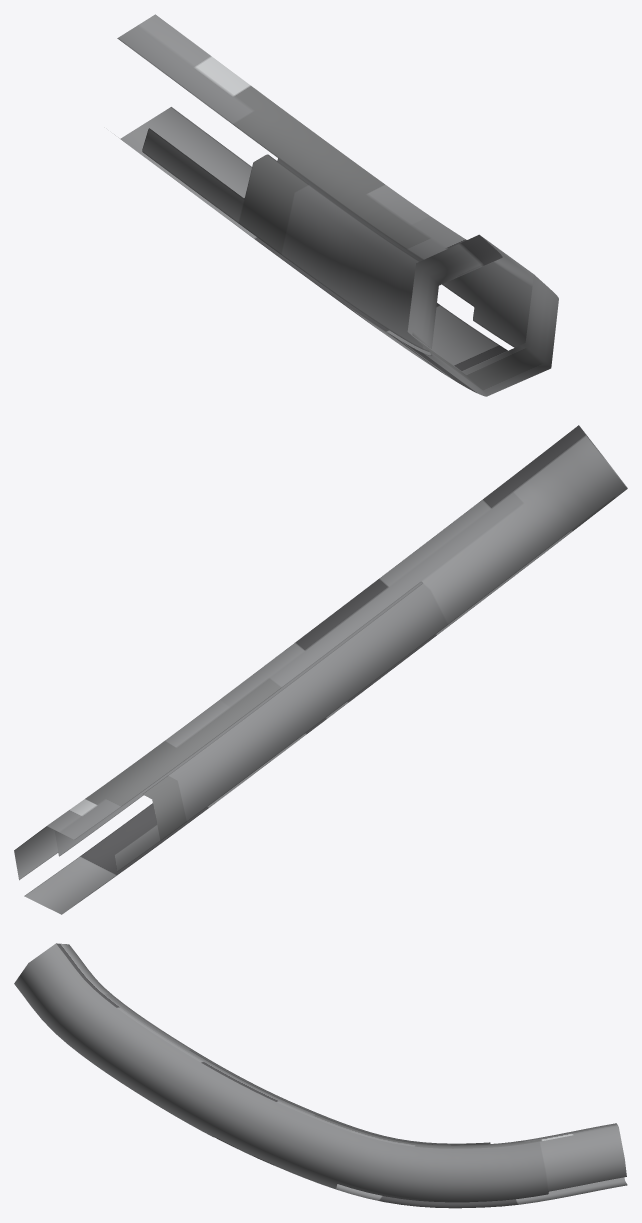
3 renders of one model, top to bottom at view 1: azimuth 30°, elevation 25°; view 2: azimuth 150°, elevation 25°; view 3: azimuth 270°, elevation 25°, orthographic. The views are drawn at different scales.
Size of the model in its own units: 0.6438 by 0.6452 by 1.78.
